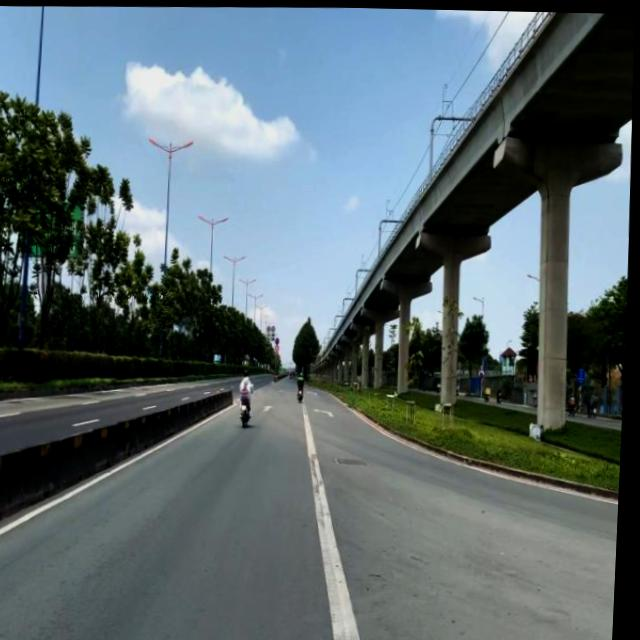Cam dung xe va do xe: (277, 336, 282, 344)
